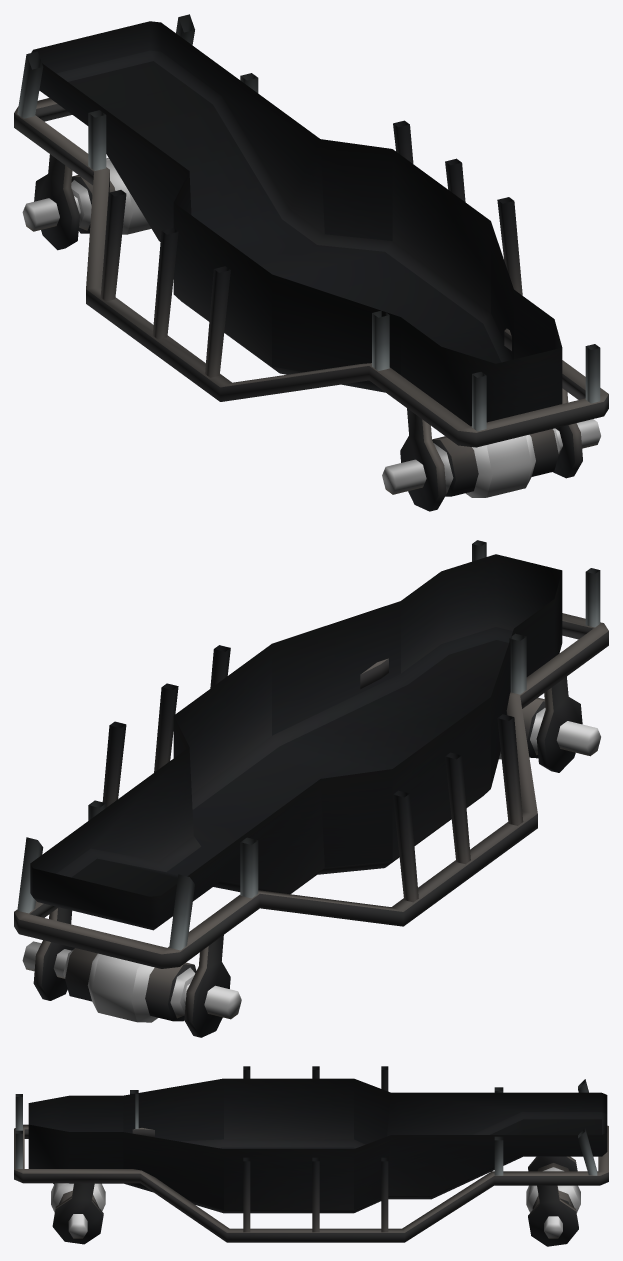
File: Frame.fbx
3 views of the same model, one above another, from view 1: azimuth 30°, elevation 25°; view 2: azimuth 150°, elevation 25°; view 3: azimuth 270°, elevation 25° (orthographic). The views are drawn at different scales.
Visible parts, largest first — view 1: Frame; view 2: Frame; view 3: Frame.
Boxes of the visible parts, box(x1,y1,x2,y2) form: Frame: box(14, 14, 608, 511); Frame: box(14, 540, 608, 1037); Frame: box(14, 1066, 608, 1246).
Size of the model in its own units: 2425 by 1301 by 5950.
